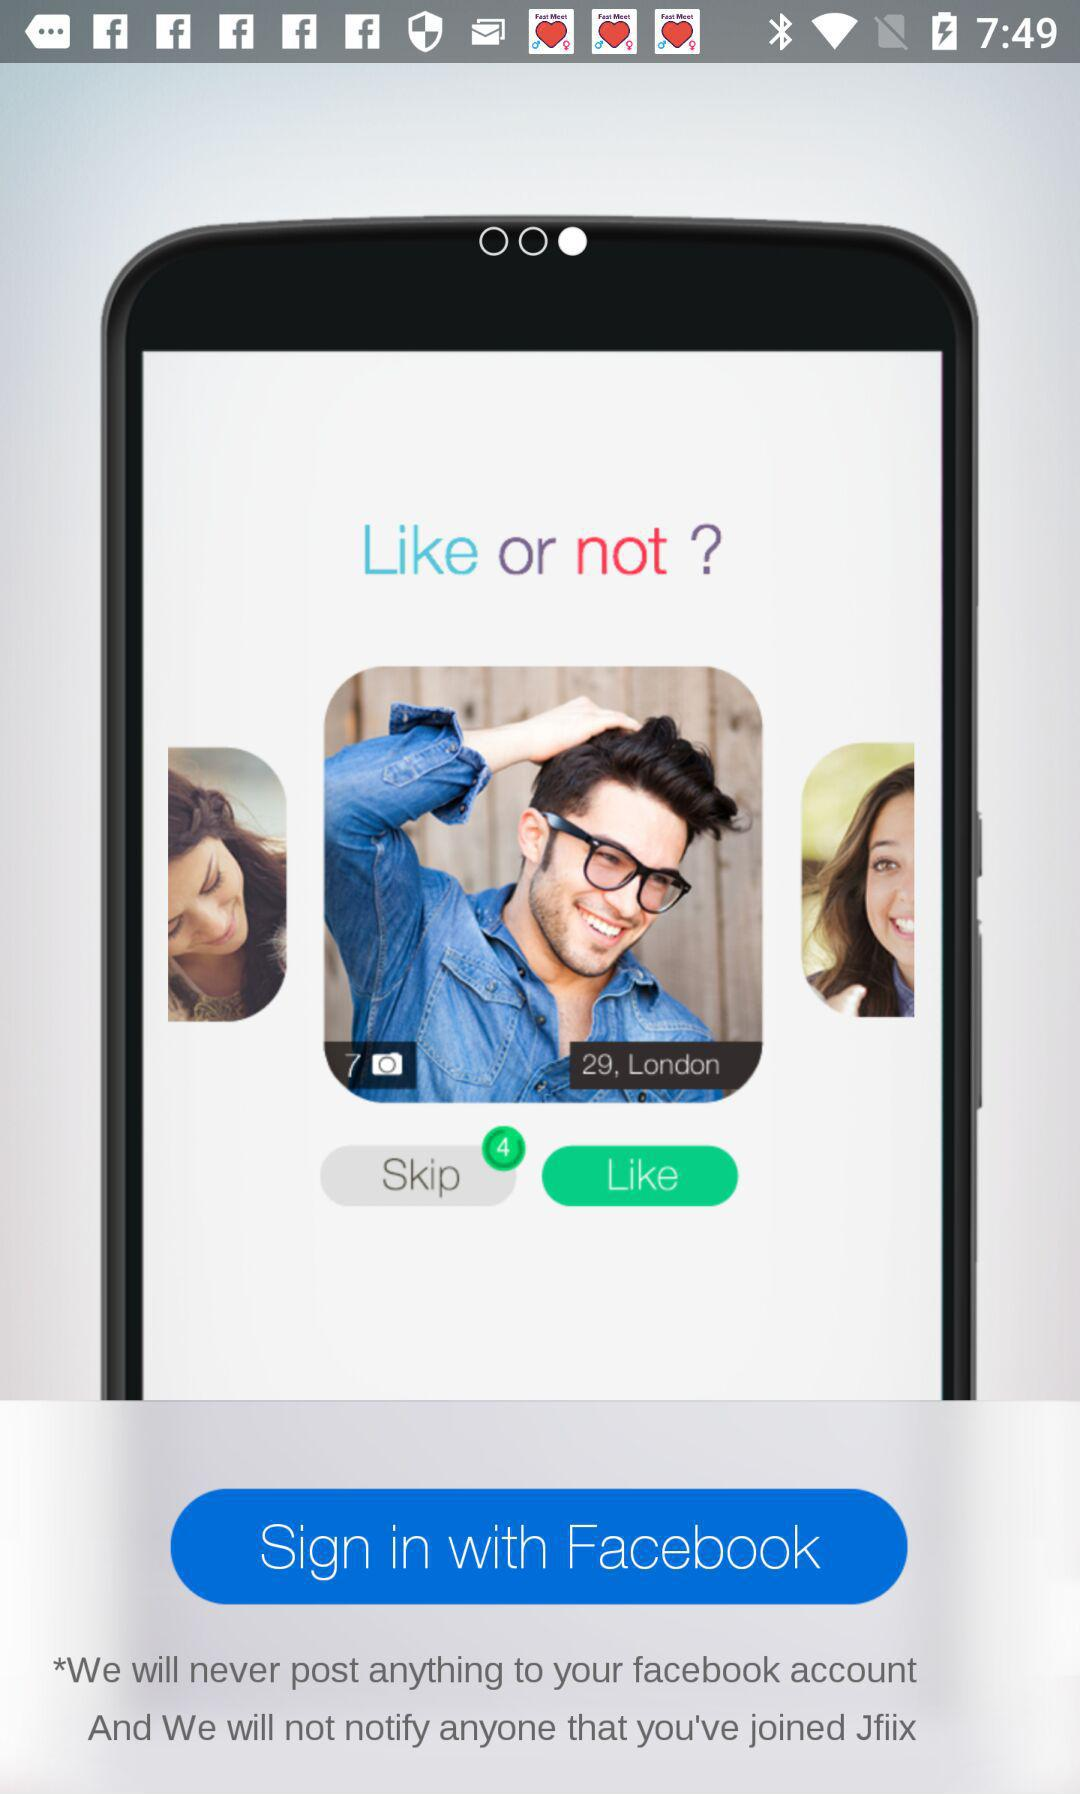Image: (100, 214, 984, 1401)
PageIndicator: (478, 226, 589, 258)
Text: (53, 1654, 919, 1749)
TextButton: (170, 1488, 910, 1606)
UpperTaskBar: (1, 1, 1080, 64)
